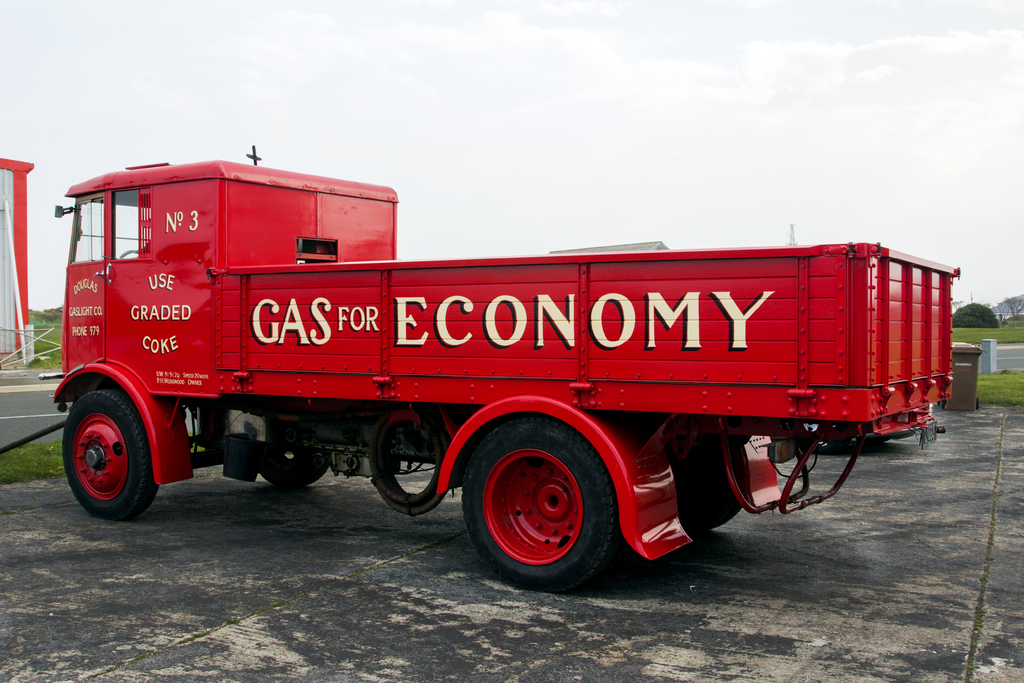truck: (51, 162, 960, 599)
